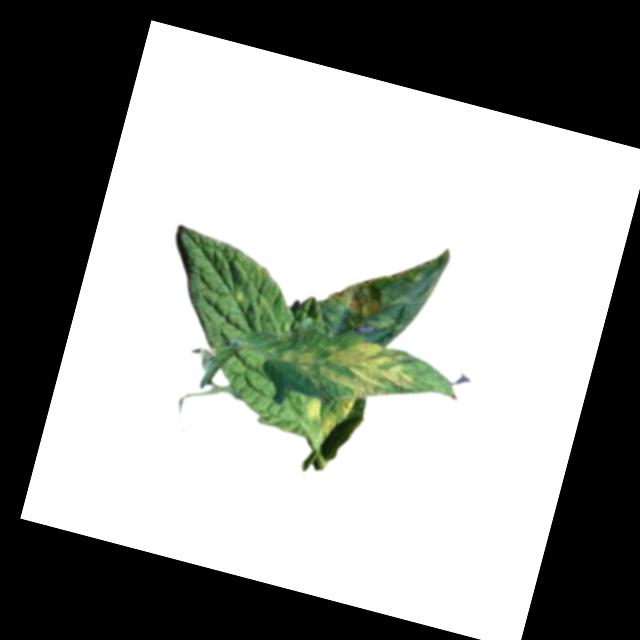Leaf_Mold: (275, 321, 421, 410), (323, 265, 396, 325), (302, 387, 355, 442)
